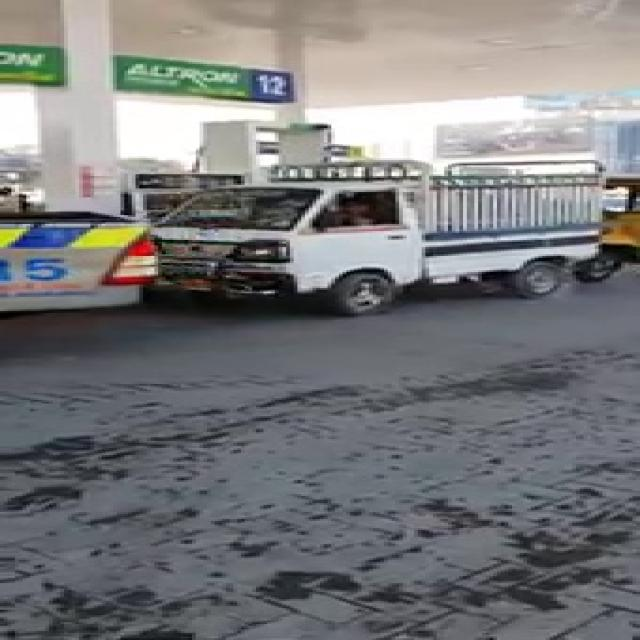police: (0, 188, 162, 337)
